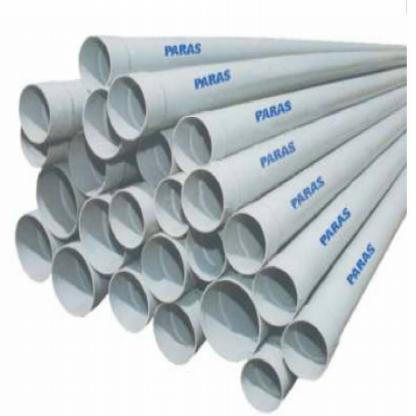PVC: (15, 37, 406, 413)
